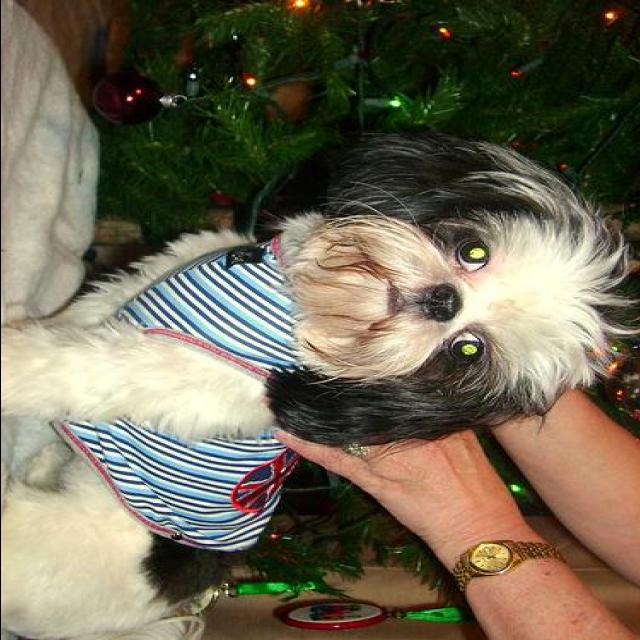shih_tzu: (2, 137, 620, 639)
